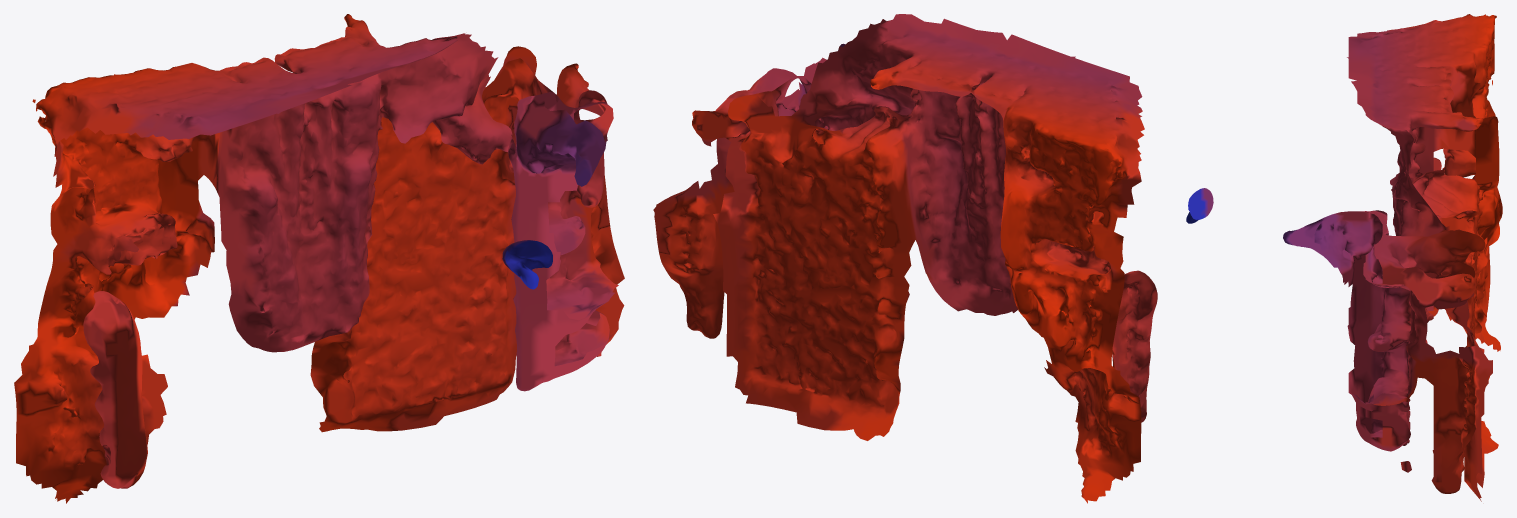
3 renders of one model, left to right at view 1: azimuth 30°, elevation 25°; view 2: azimuth 150°, elevation 25°; view 3: azimuth 270°, elevation 25°, orthographic. The views are drawn at different scales.
Size of the model in its own units: 3.15 by 2.31 by 1.9.
